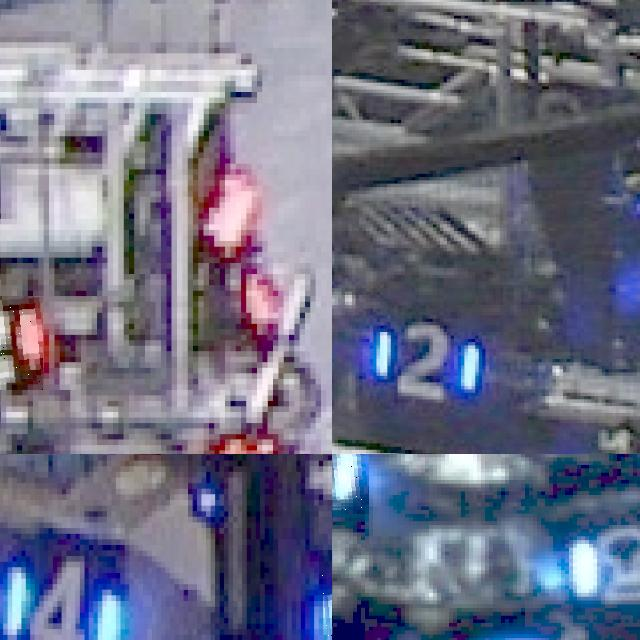B2: (369, 318, 478, 402)
B4: (0, 550, 125, 640)
Bs: (569, 536, 640, 600), (332, 454, 369, 513)
R2: (0, 296, 43, 390)
